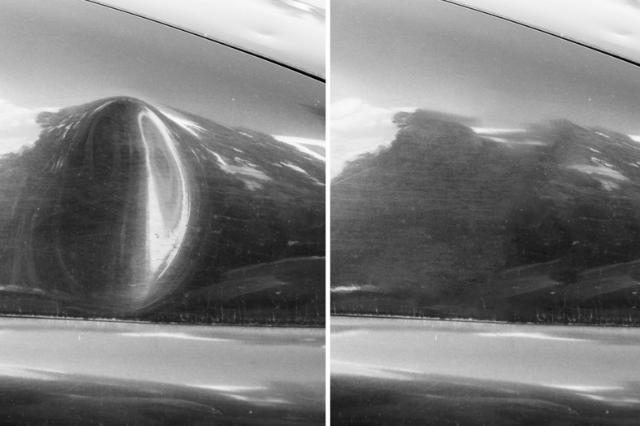Fender: (18, 67, 229, 323)
